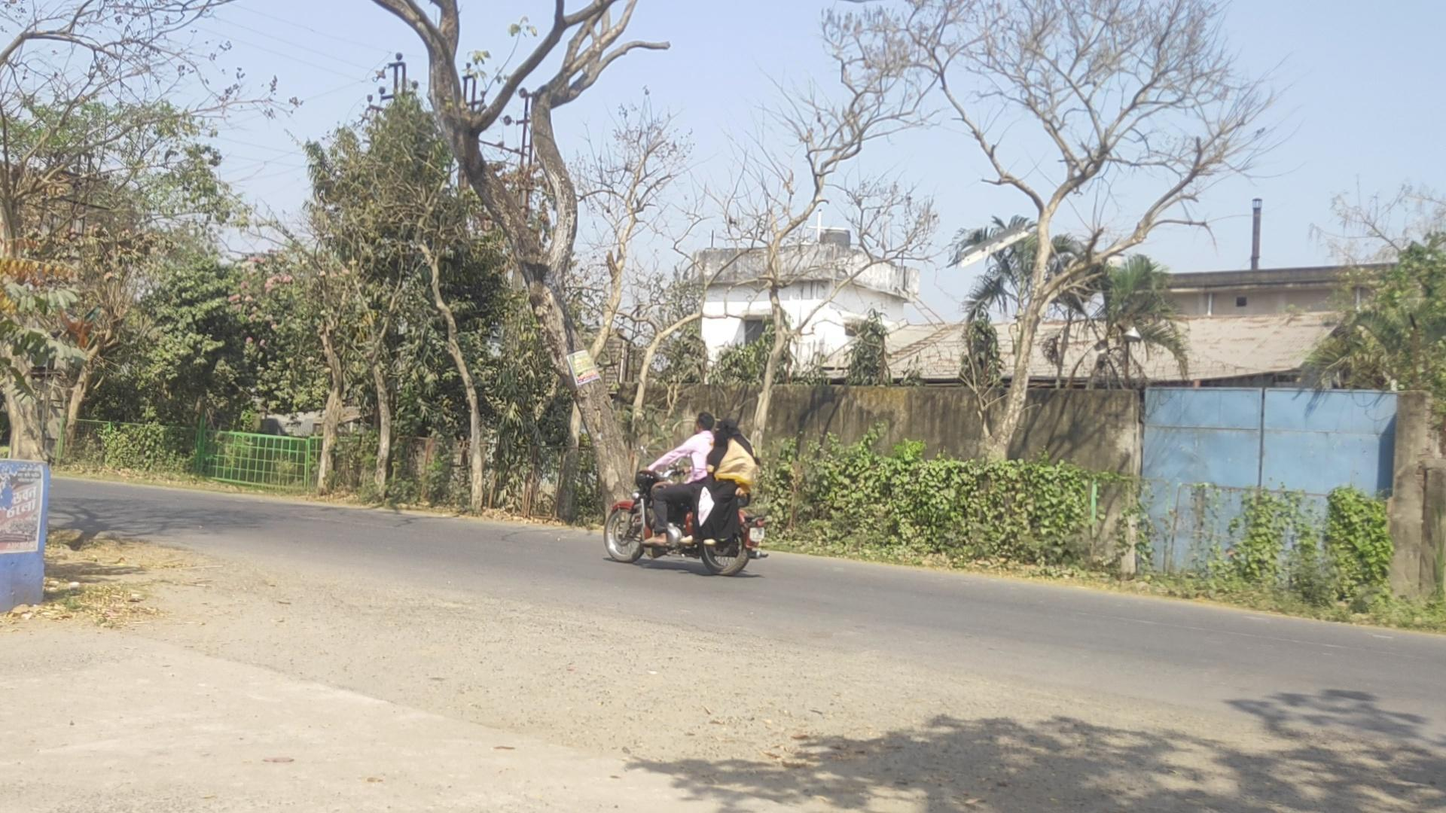bike: (604, 412, 772, 576)
